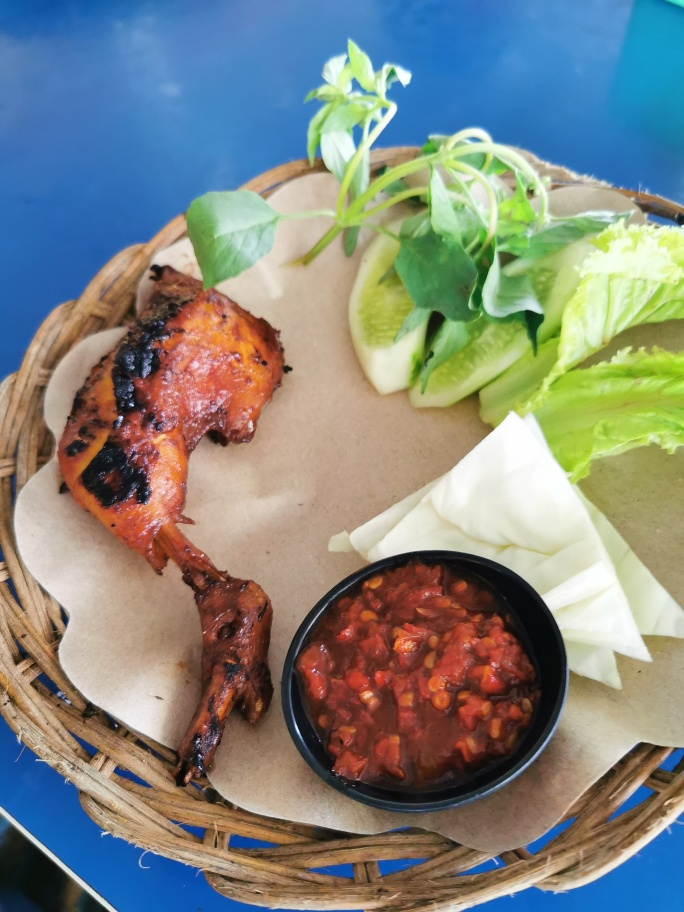ayam bakar: (48, 262, 290, 798)
